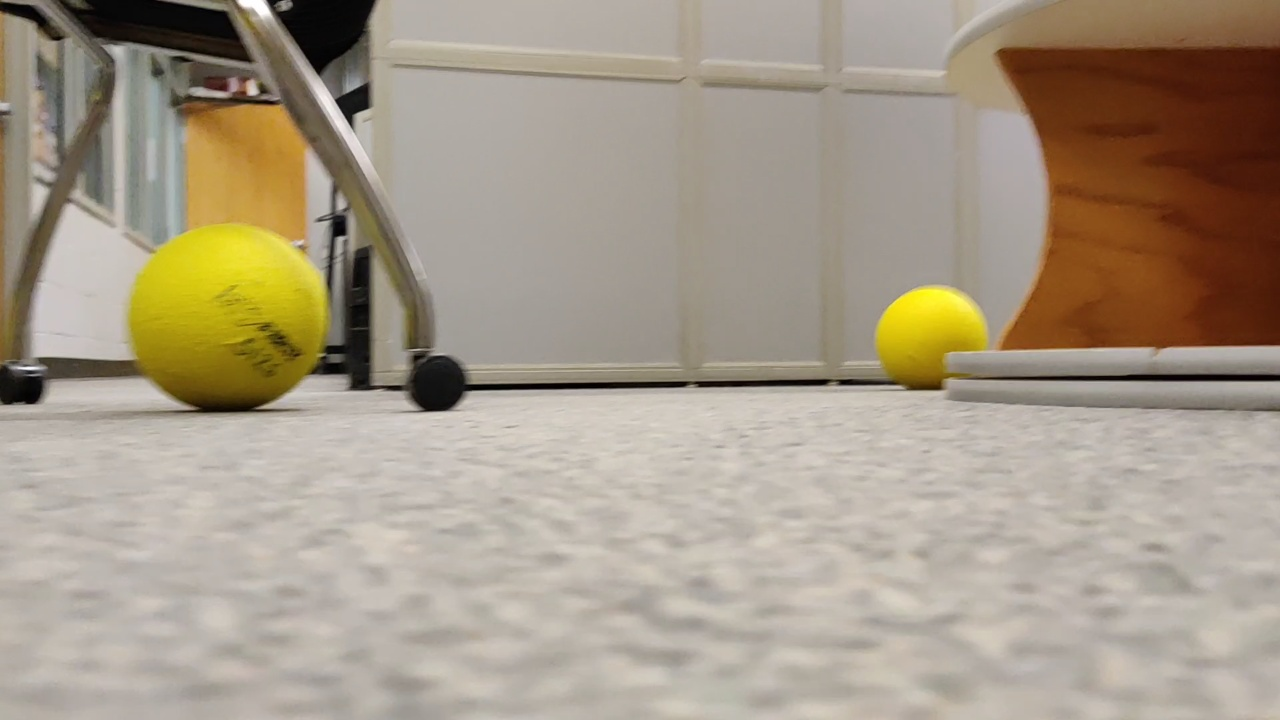Ball: (130, 217, 319, 402), (876, 286, 982, 388)
